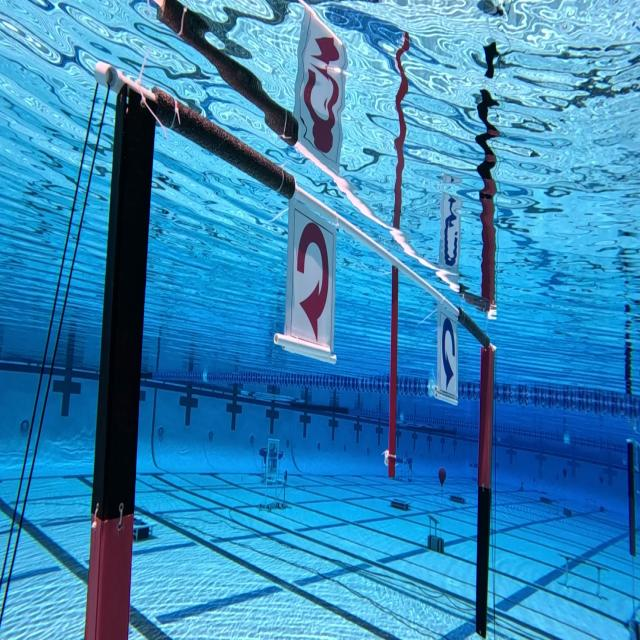blue_side: (433, 294, 464, 408)
red_side: (281, 193, 342, 360)
